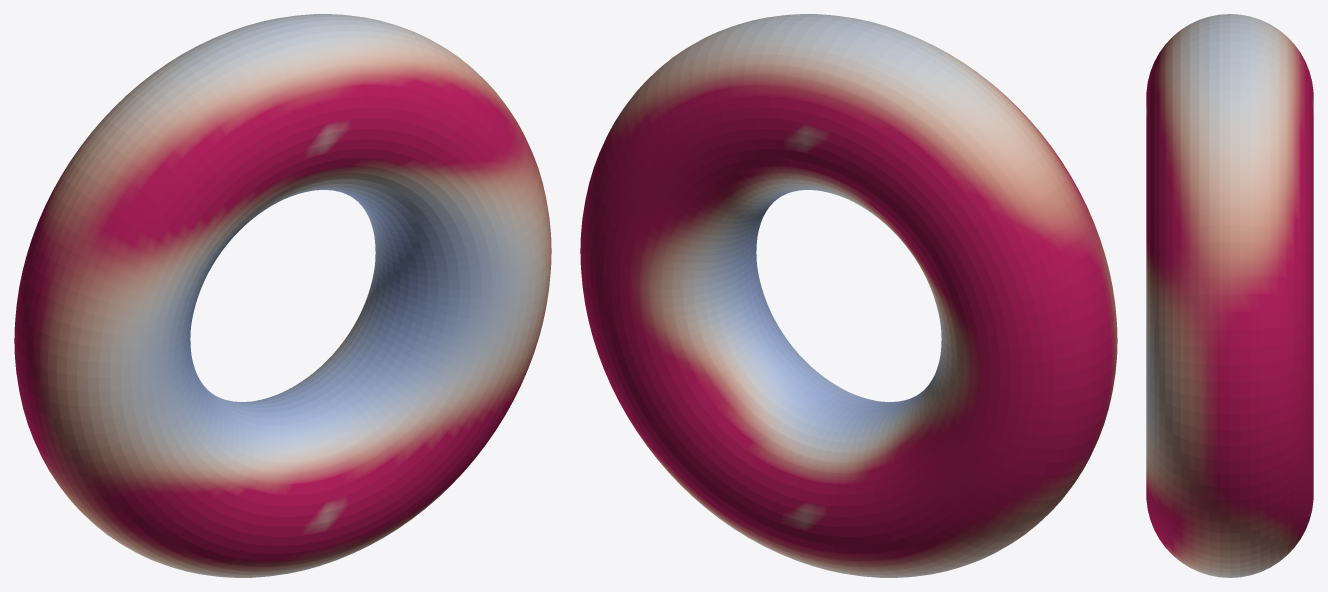
The picture shows the model from 3 angles, left to right: view 1: azimuth 30°, elevation 25°; view 2: azimuth 150°, elevation 25°; view 3: azimuth 270°, elevation 25°; orthographic projection. The views are drawn at different scales.
Parts seen in each view (by area): view 1: world; view 2: world; view 3: world.
Boxes of the visible parts, x1,y1,x2,y2 form: world: [14, 14, 551, 577]; world: [580, 14, 1117, 577]; world: [1146, 14, 1313, 577].
Bounding box in the file's own units: 25.6 × 25.6 × 7.59.
